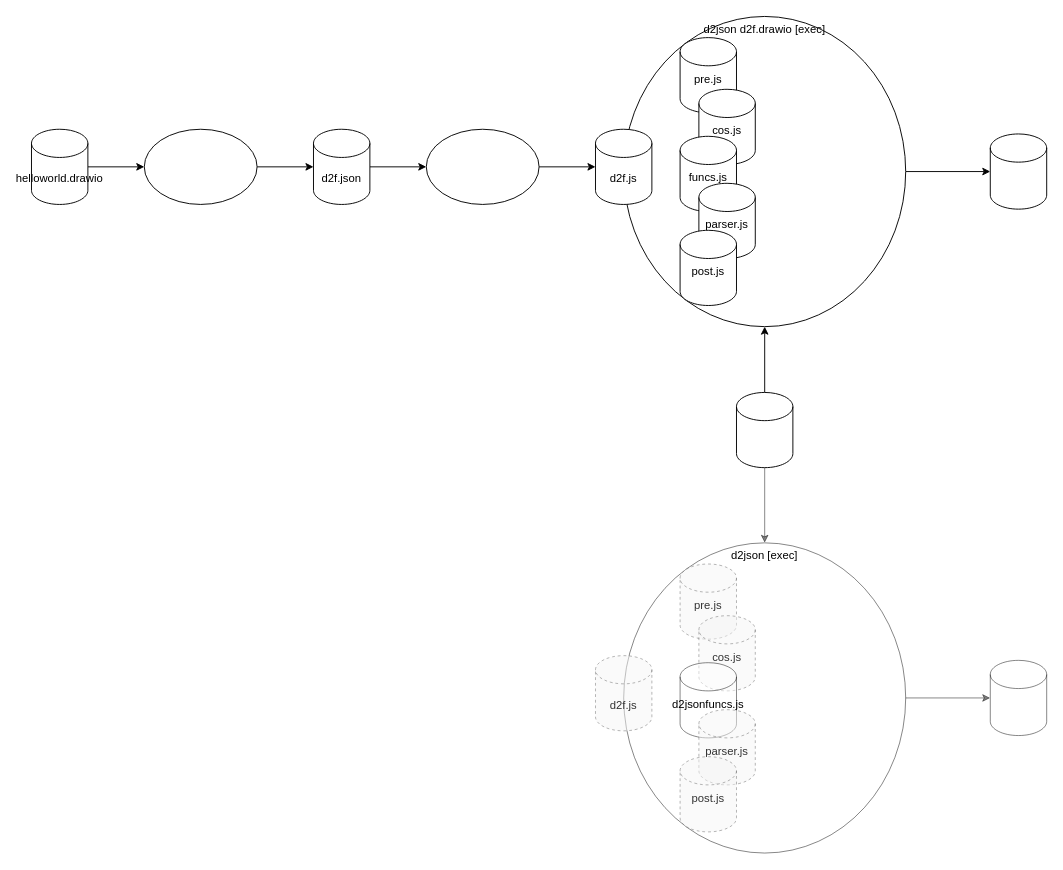
The diagram is 1063 pixels wide and 870 high, and some of its shapes have lost their labels. Each missing label, with the centre of its shape:
.JSON: [1018,697]
d2f.drawio: [764,430]
das2json: [200,166]
factbase: [1018,171]
json2js: [482,166]
